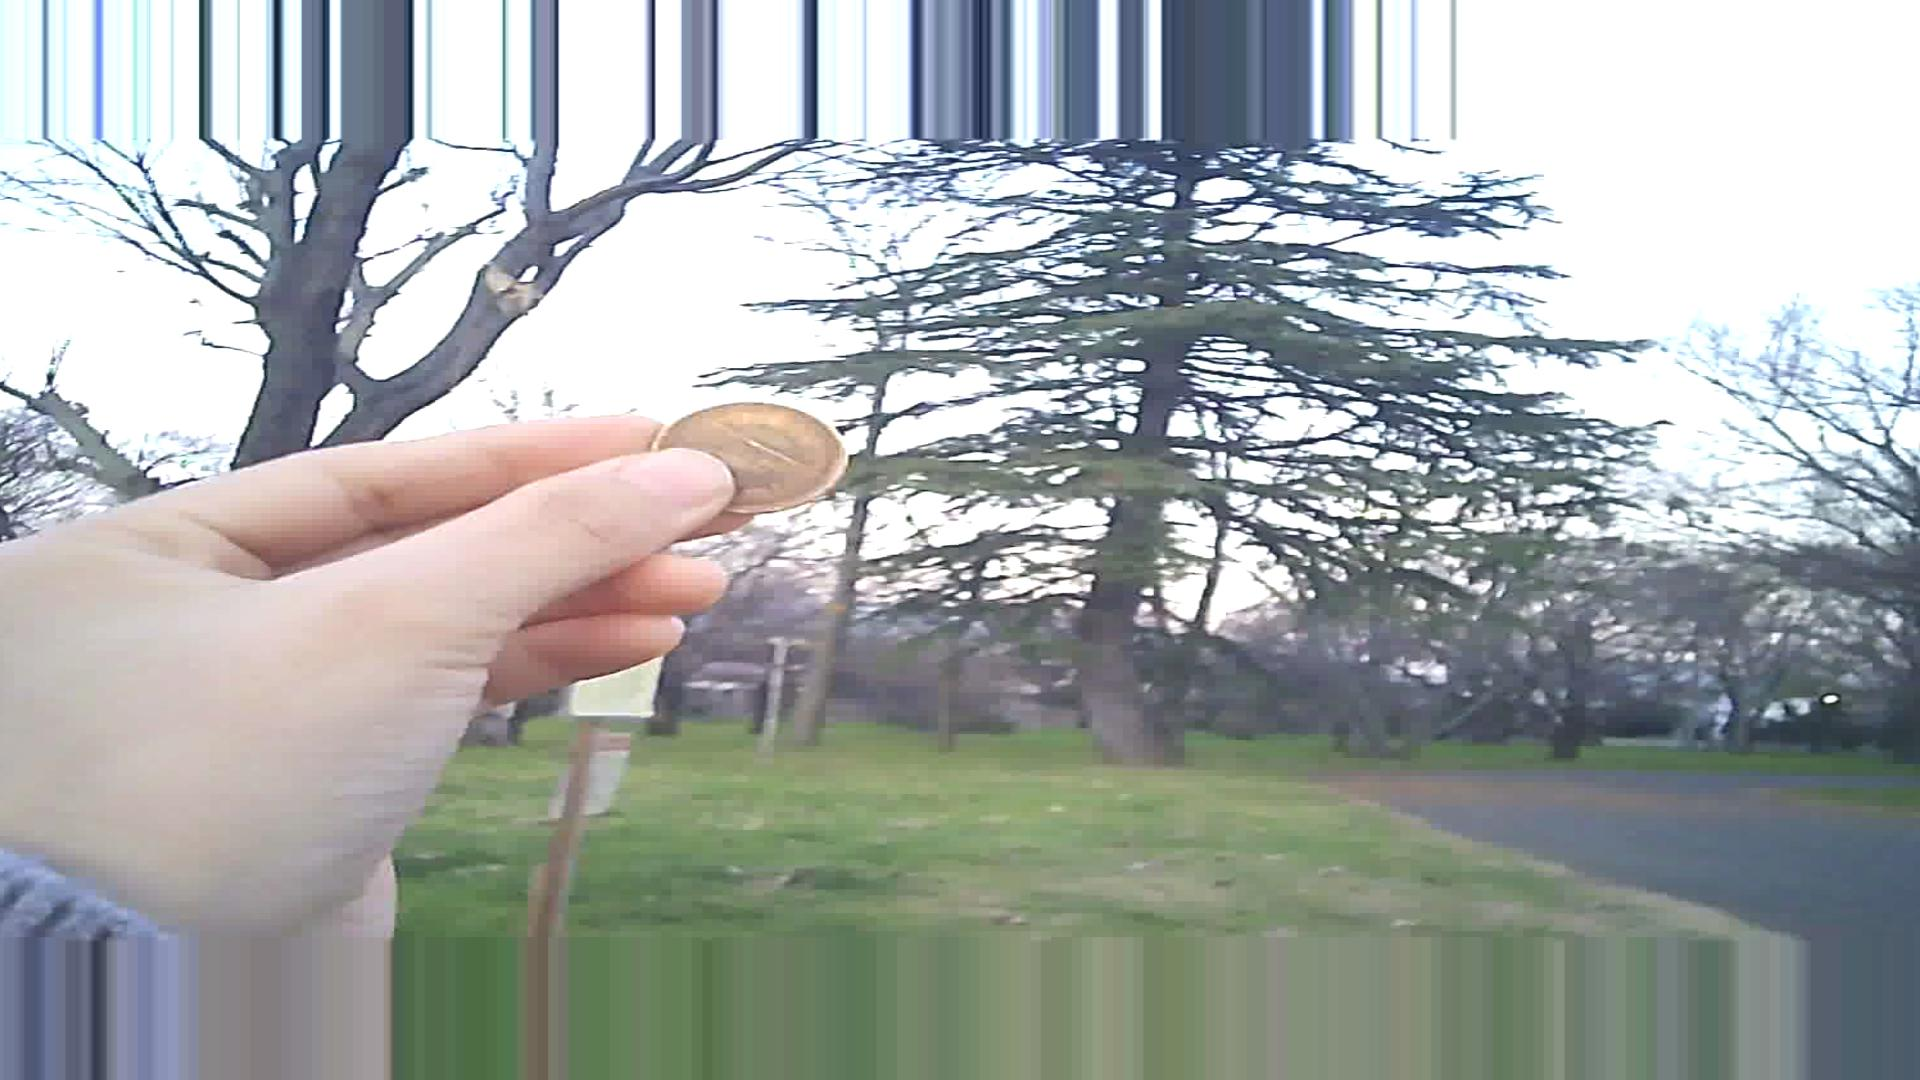10 Yen: (654, 390, 877, 534)
